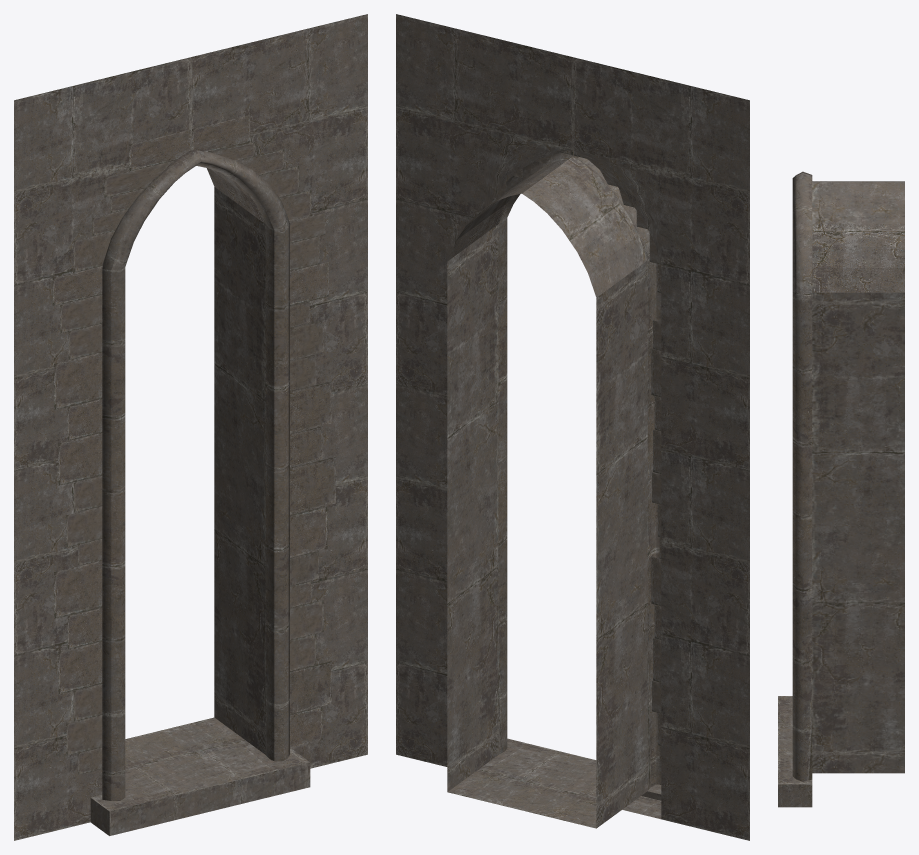
Rendered from Window.fbx.
3 views of the same model, side by side, from view 1: azimuth 30°, elevation 25°; view 2: azimuth 150°, elevation 25°; view 3: azimuth 270°, elevation 25° (orthographic). The views are drawn at different scales.
Visible parts, largest first — view 1: Trim_Window_4x8; view 2: Trim_Window_4x8; view 3: Trim_Window_4x8.
Boxes of the visible parts, x1,y1,x2,y2 form: Trim_Window_4x8: (14, 14, 367, 840); Trim_Window_4x8: (396, 14, 749, 840); Trim_Window_4x8: (778, 171, 904, 807).
Bounding box in the file's own units: 400 × 800 × 137.
